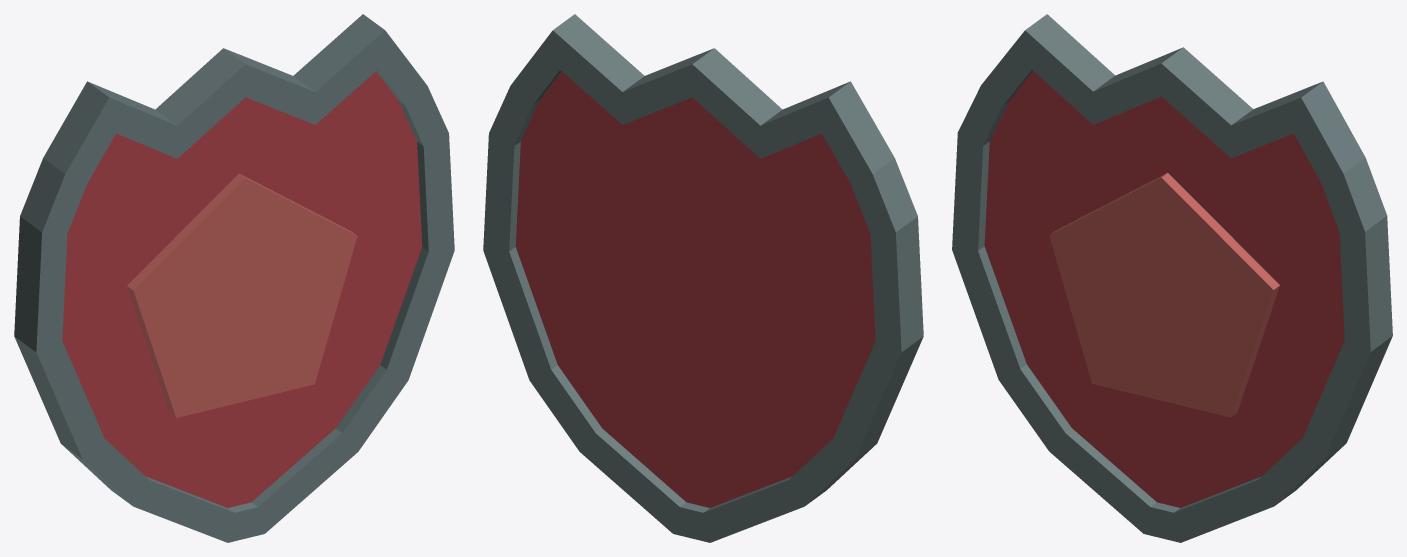
File: Shield_3_Red.fbx
3 renders of one model, left to right at view 1: azimuth 30°, elevation 25°; view 2: azimuth 150°, elevation 25°; view 3: azimuth 330°, elevation 25°, orthographic.
Parts seen in each view (by area): view 1: Shield_3_Red_Part_3, Shield_3_Red_Part_1, Shield_3_Red_Part_2; view 2: Shield_3_Red_Part_3, Shield_3_Red_Part_1; view 3: Shield_3_Red_Part_3, Shield_3_Red_Part_1, Shield_3_Red_Part_2.
Boxes of the visible parts, x1=… form: Shield_3_Red_Part_3: x1=62, y1=71, x2=422, y2=507; Shield_3_Red_Part_1: x1=14, y1=14, x2=454, y2=542; Shield_3_Red_Part_2: x1=127, y1=173, x2=357, y2=417; Shield_3_Red_Part_3: x1=515, y1=71, x2=875, y2=507; Shield_3_Red_Part_1: x1=483, y1=14, x2=923, y2=542; Shield_3_Red_Part_3: x1=984, y1=71, x2=1344, y2=507; Shield_3_Red_Part_1: x1=952, y1=14, x2=1392, y2=542; Shield_3_Red_Part_2: x1=1049, y1=173, x2=1279, y2=417.
Size of the model in its own units: 92.3 by 100 by 8.48.
